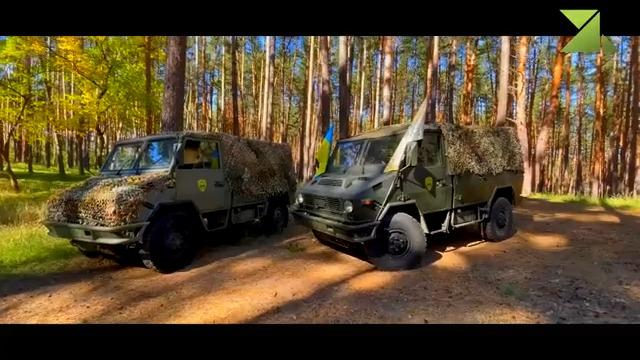MIL_HMMWV: (46, 131, 296, 273), (300, 120, 524, 270)
